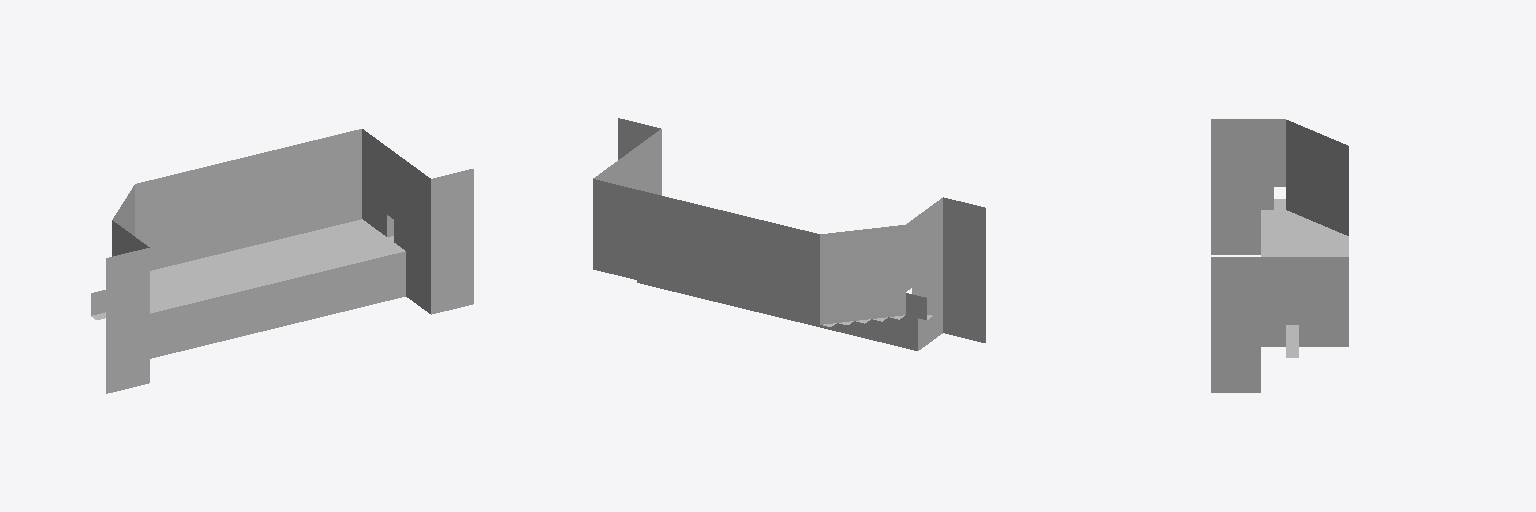
The model's file is hallway1.obj.
3 views of the same model, side by side, from view 1: azimuth 30°, elevation 25°; view 2: azimuth 150°, elevation 25°; view 3: azimuth 270°, elevation 25° (orthographic).
Parts seen in each view (by area): view 1: Cube; view 2: Cube; view 3: Cube.
Boxes of the visible parts, <box> form: Cube: <box>91,129,473,393</box>; Cube: <box>593,118,985,350</box>; Cube: <box>1211,119,1348,392</box>.
Bounding box in the file's own units: 34 × 12 × 11.